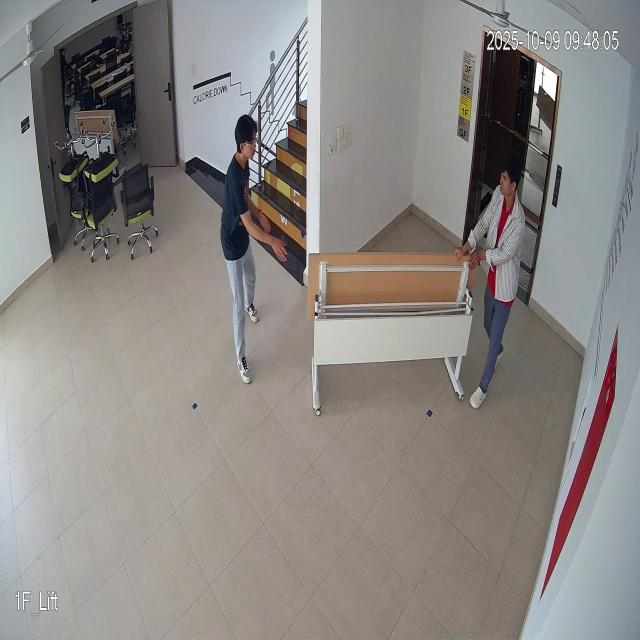face: (232, 111, 262, 176), (496, 154, 524, 210)
